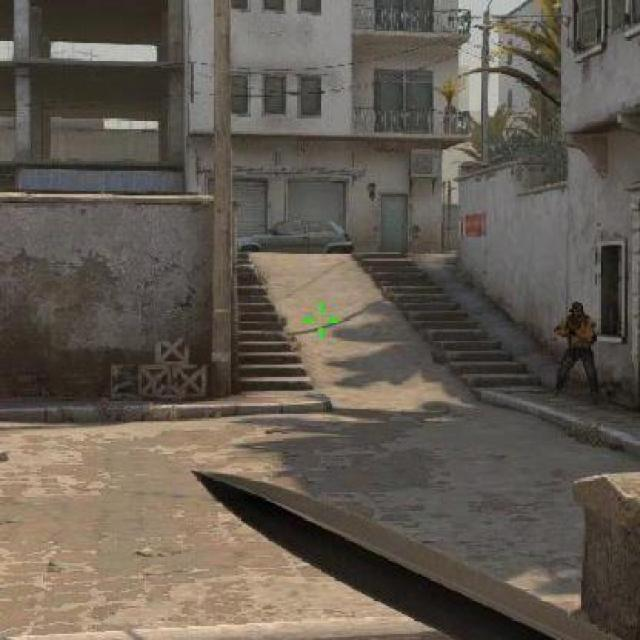T: (554, 298, 603, 400)
T_HEAD: (569, 298, 588, 318)
